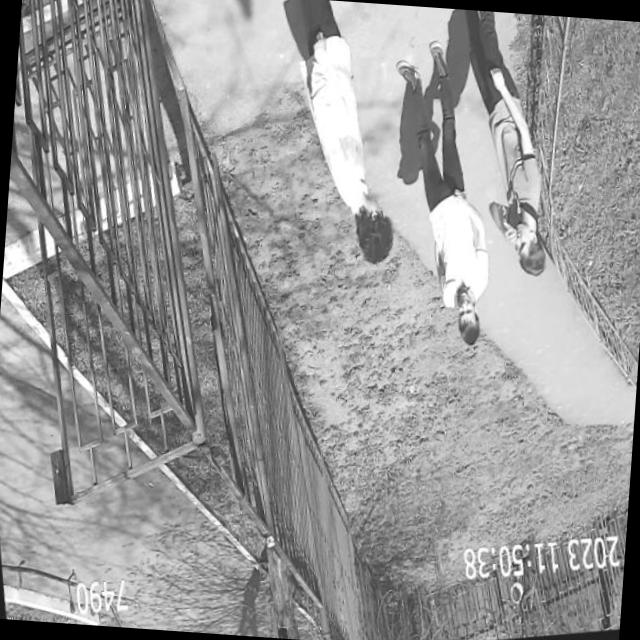person: (372, 29, 517, 353), (416, 8, 566, 288), (271, 0, 414, 277)
